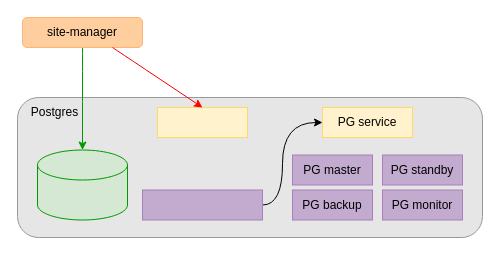
Some shapes in this 500 by 255 pixel diagram are drawn without their labels. Each missing label, with the centre of its shape:
dr-managed service: the point at 202,204
service: the point at 202,122
SiteManager CR: the point at 82,184
